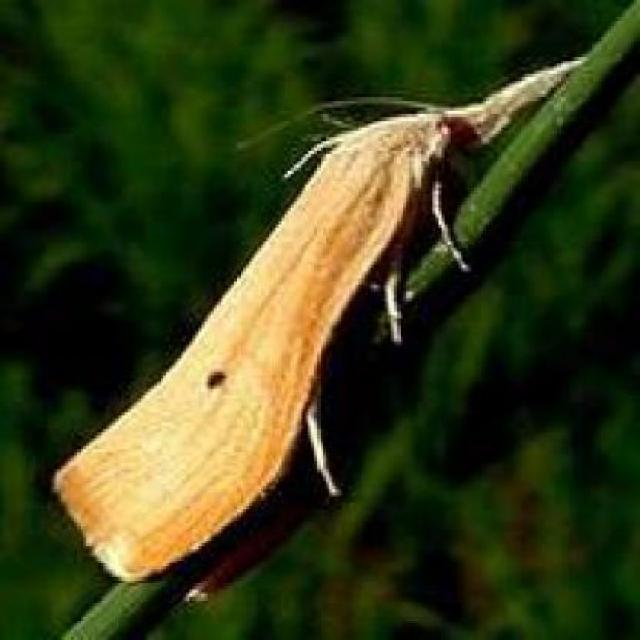stem-borer: (46, 47, 594, 587)
